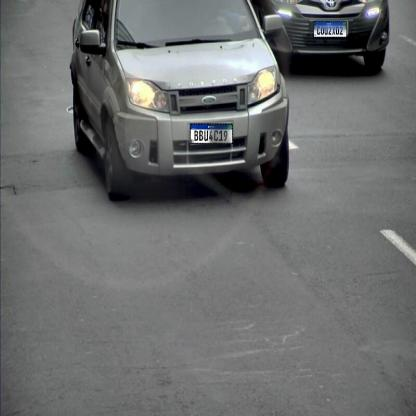PlacaM: (190, 124, 233, 145), (313, 21, 347, 37)
